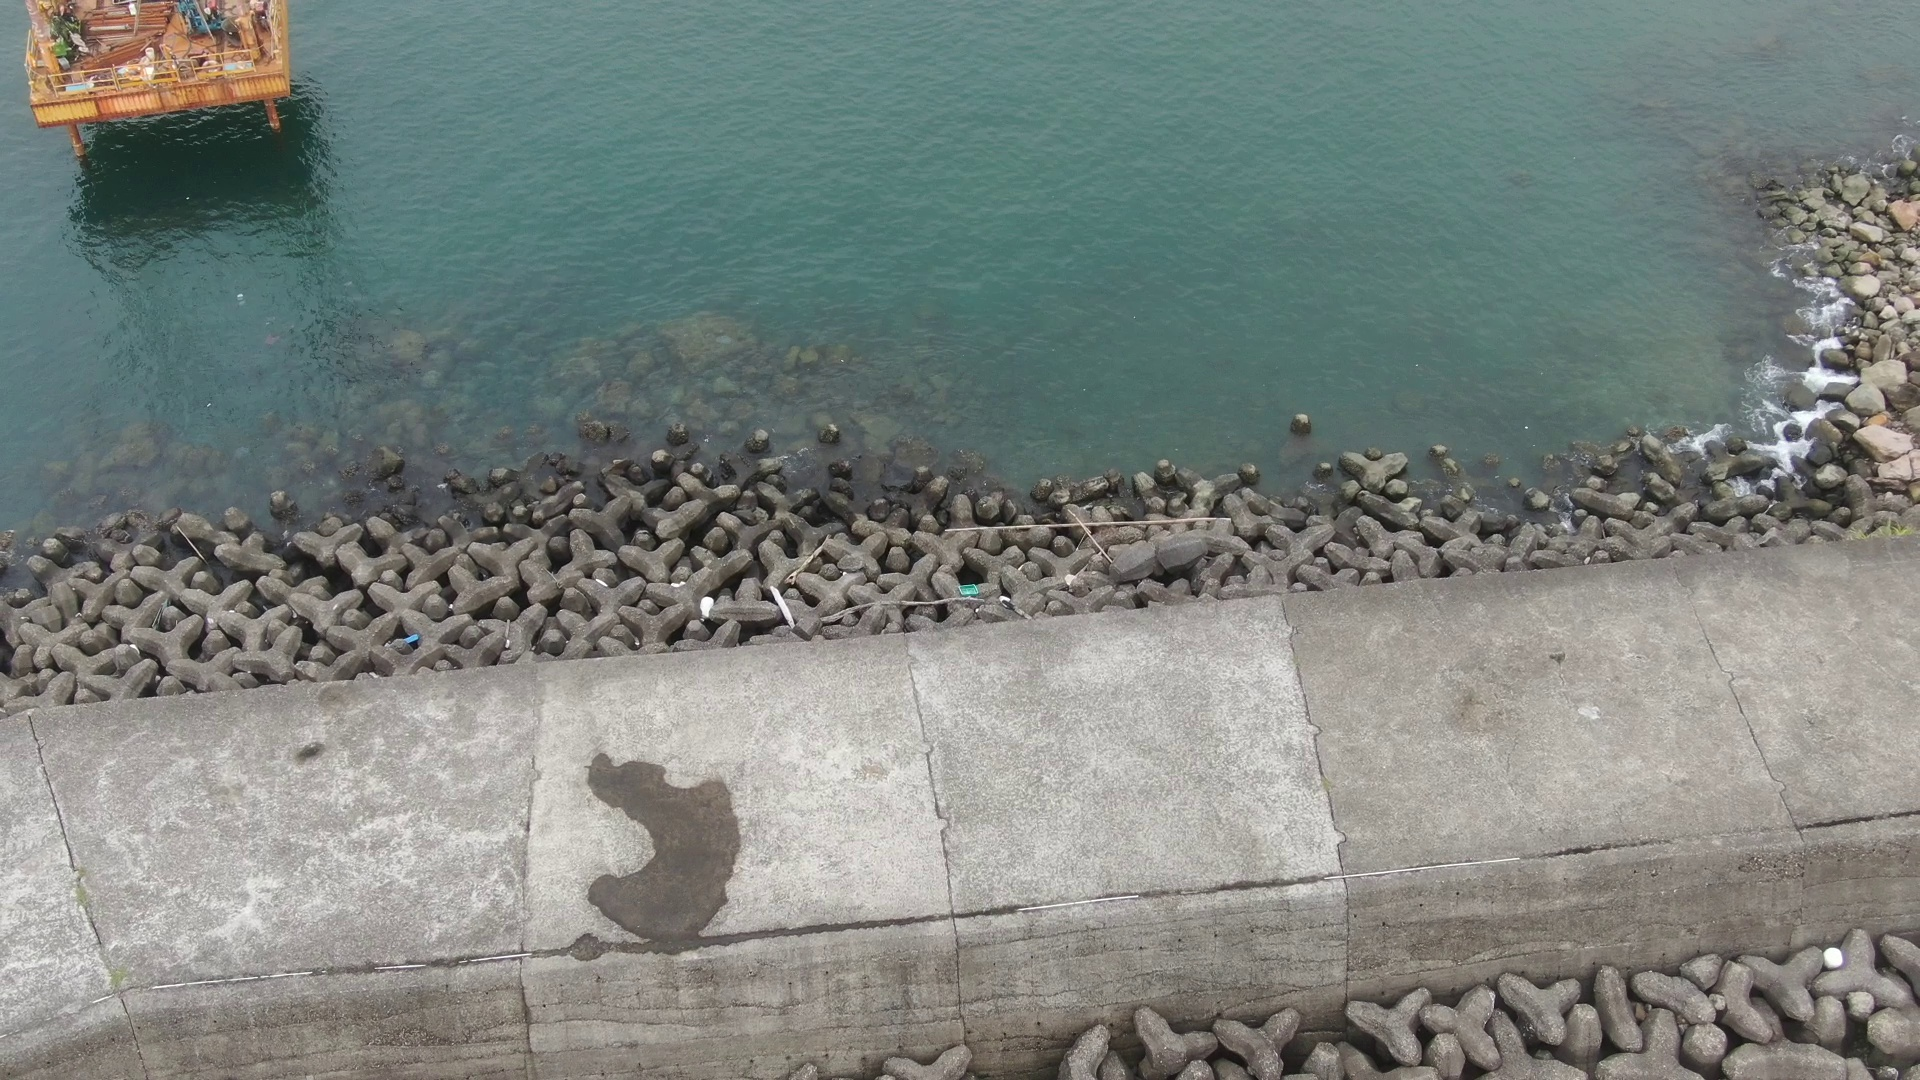garbage: (1812, 938, 1851, 981), (945, 574, 996, 604), (694, 585, 721, 636), (398, 624, 430, 654)
